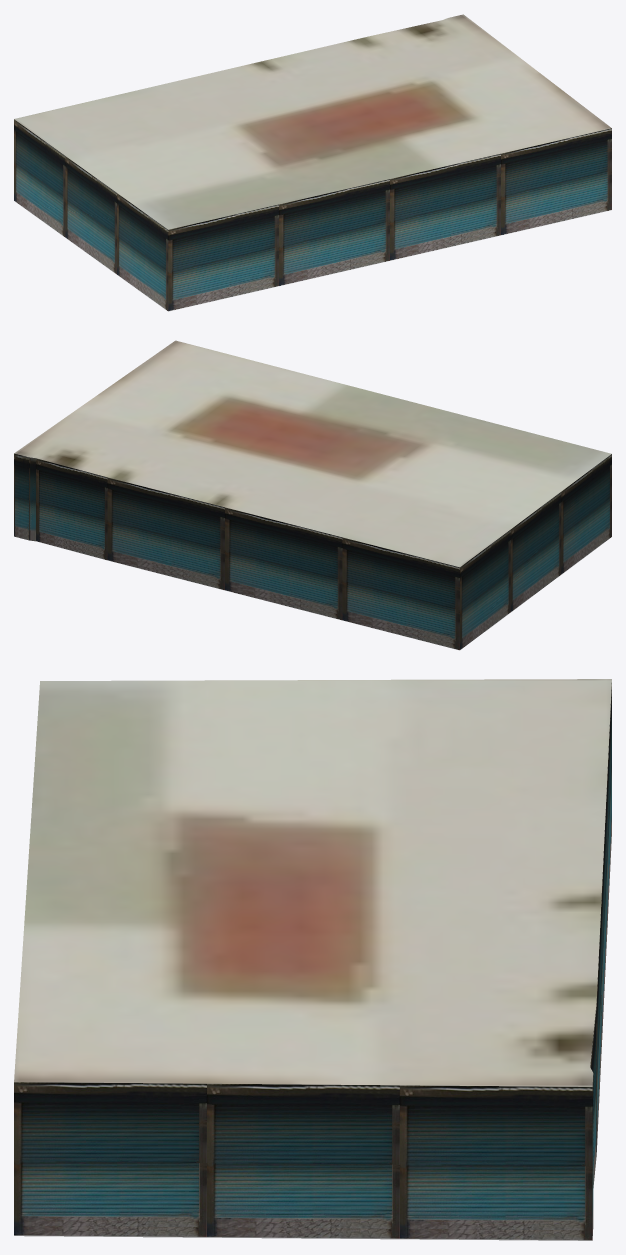
3 views of the same model, one above another, from view 1: azimuth 30°, elevation 25°; view 2: azimuth 150°, elevation 25°; view 3: azimuth 270°, elevation 25° (orthographic). The views are drawn at different scales.
Parts seen in each view (by area): view 1: SketchUp (×3); view 2: SketchUp (×6); view 3: SketchUp (×3).
Part boxes in pixels (x1,y1,x2,y2): SketchUp (×3): [14, 14, 611, 311]; SketchUp (×6): [14, 340, 611, 650]; SketchUp (×3): [14, 679, 611, 1240].
Bounding box in the file's own units: 20.9 × 12.95 × 3.68.
2 materials, 2 textured.
